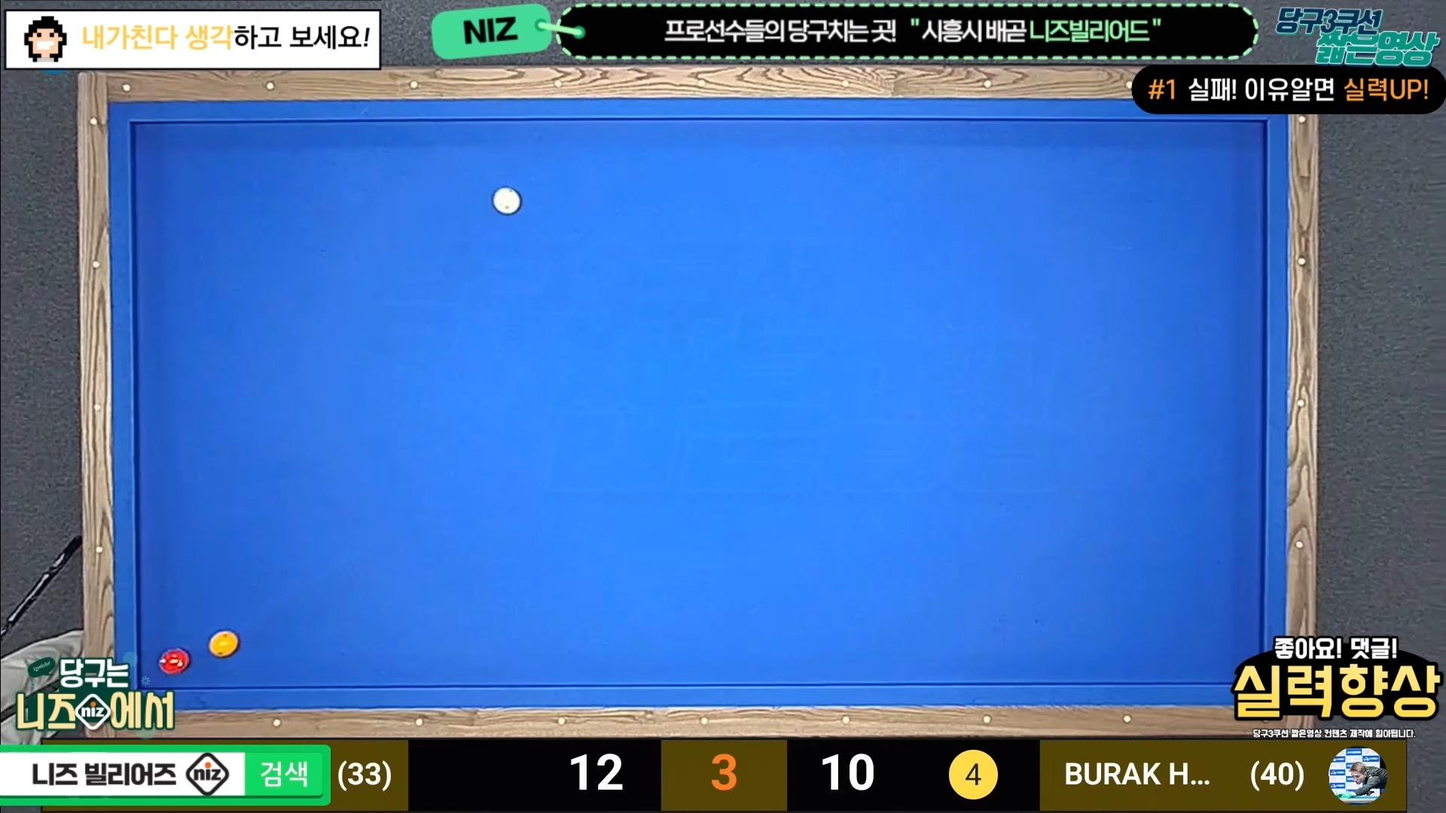-billiard-ball: (491, 185, 521, 215)
Red: (158, 651, 192, 677)
White: (488, 189, 523, 217)
Yellow: (210, 631, 243, 657)
